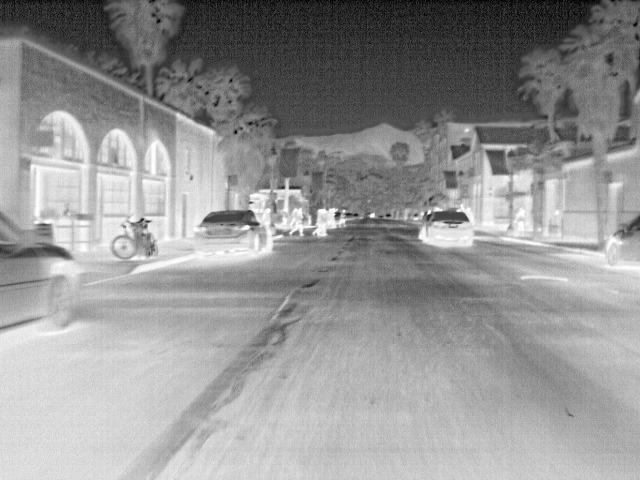car: (1, 211, 81, 332), (193, 209, 275, 258), (416, 208, 476, 251), (601, 210, 640, 271)
person: (285, 206, 307, 238), (318, 207, 330, 237), (337, 207, 350, 228), (327, 206, 339, 228)
